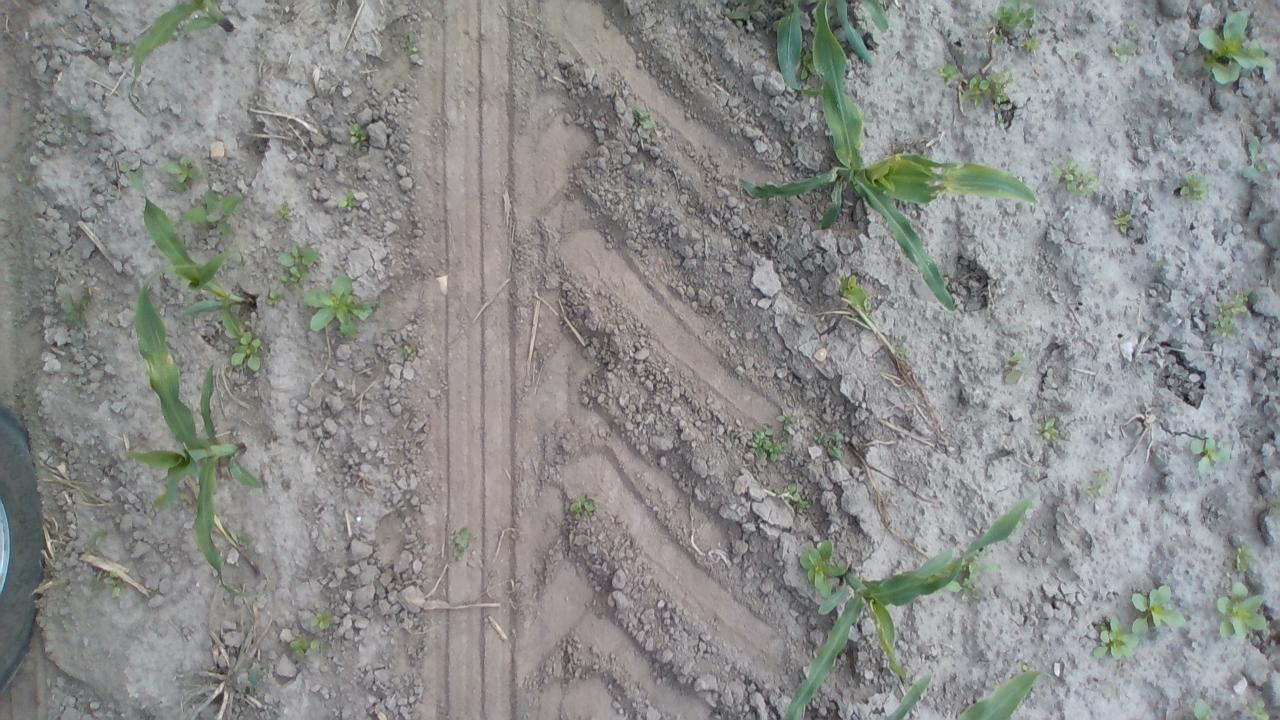Maize: (740, 1, 1038, 326), (780, 486, 1035, 718), (117, 263, 286, 611), (120, 162, 262, 352), (125, 0, 233, 131)
Weeds: (1196, 13, 1276, 94), (303, 274, 376, 346), (944, 61, 1018, 121), (1216, 579, 1272, 645), (179, 186, 248, 239), (796, 536, 845, 596), (996, 1, 1045, 60), (88, 556, 143, 607), (1125, 586, 1189, 628), (1208, 288, 1250, 350), (1236, 122, 1272, 184), (272, 243, 324, 285), (1092, 618, 1140, 663), (54, 285, 94, 338), (748, 422, 790, 468), (1186, 432, 1228, 477), (229, 326, 266, 373), (1168, 166, 1212, 204), (773, 477, 815, 515), (1110, 22, 1146, 66), (164, 154, 206, 190), (1058, 158, 1094, 198), (1082, 461, 1116, 503), (824, 429, 858, 468), (448, 525, 478, 560), (771, 406, 801, 440), (626, 104, 661, 132), (288, 632, 322, 660), (1232, 542, 1261, 574), (1040, 411, 1066, 445), (1110, 205, 1137, 237), (272, 197, 298, 229), (570, 494, 600, 520), (308, 609, 334, 638), (1002, 342, 1026, 370), (336, 192, 361, 218), (1242, 694, 1268, 718), (1193, 694, 1217, 717), (264, 284, 285, 310), (346, 120, 368, 144)
